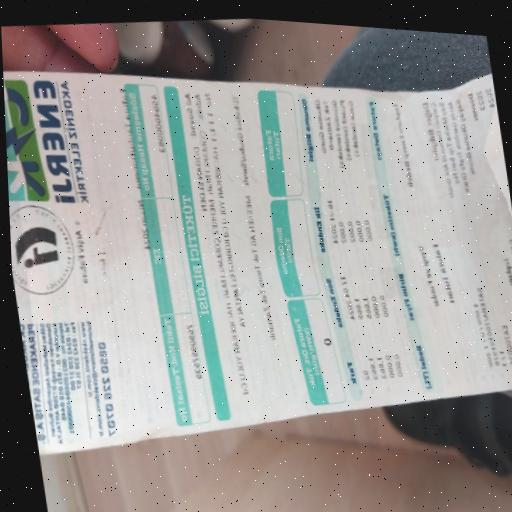electricity-bill: (3, 70, 512, 454)
